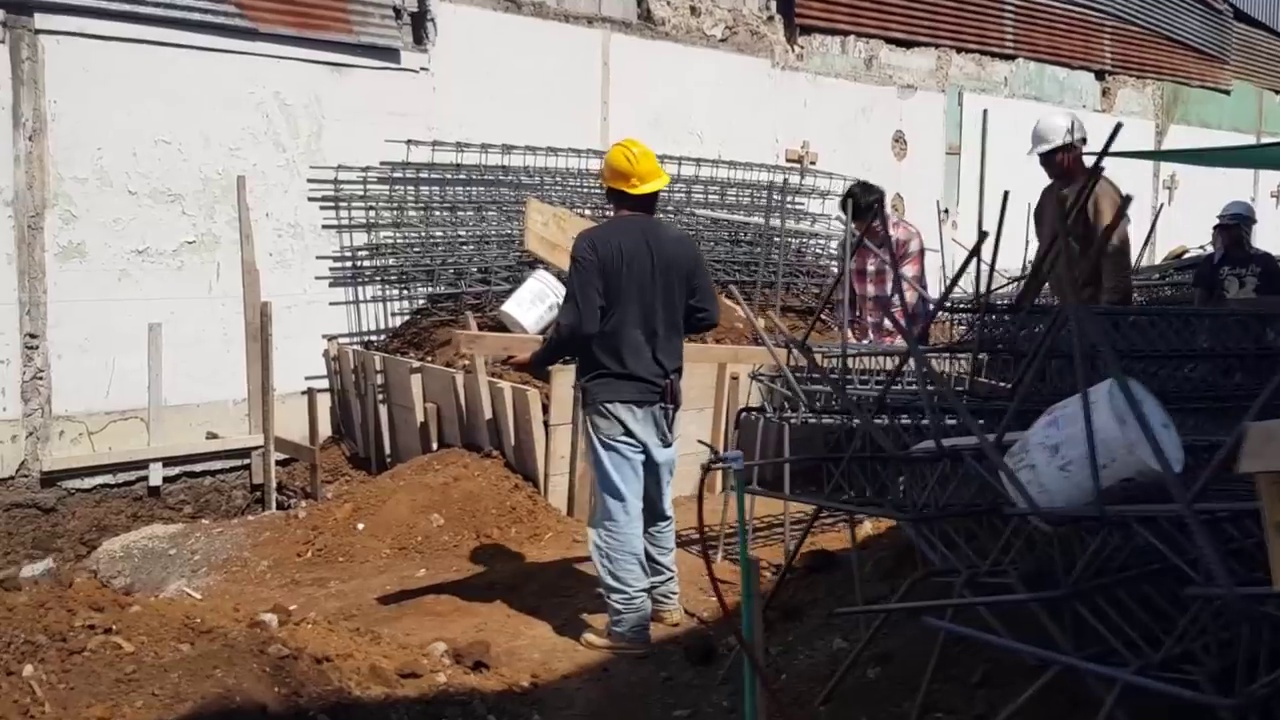helmet: (601, 140, 669, 200), (1024, 119, 1093, 158), (1216, 200, 1258, 226)
helmet-off: (834, 183, 890, 236)
helmet-on: (601, 135, 670, 225), (1024, 117, 1099, 188), (1214, 199, 1259, 256)
person: (507, 134, 722, 657), (1023, 120, 1136, 317), (834, 183, 932, 354), (1194, 199, 1280, 308)
